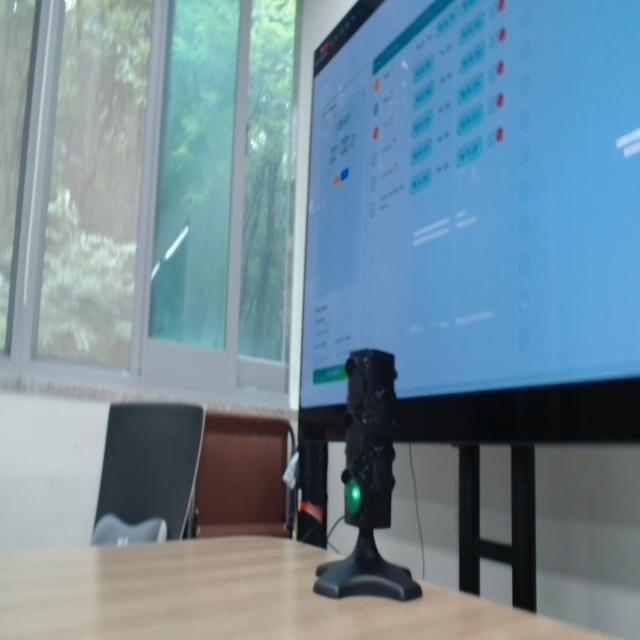green_light: (345, 479, 361, 517)
